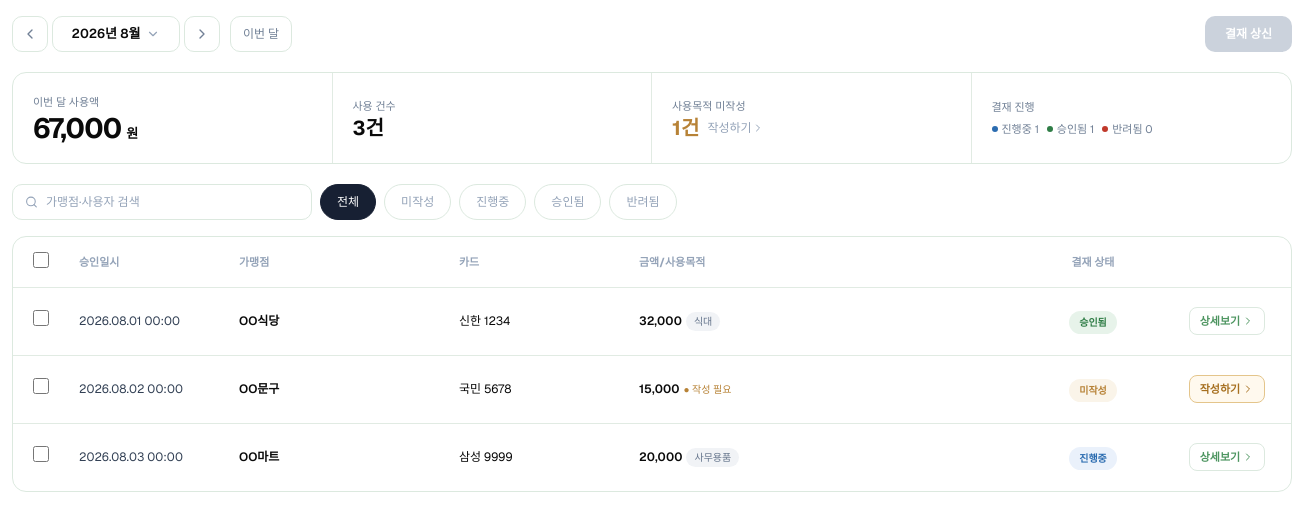
Test case: FinanceCorporateCardManagement › 내역을 하나 선택하면 결재 상신 버튼이 활성화된다
The width and height of the screenshot is (1304, 509).
What coordinates should you click on to do the following:
click the checkbox named "OO식당 선택"
I would click on:
 (41, 318)
Its box is x1=33 y1=310 x2=49 y2=326.
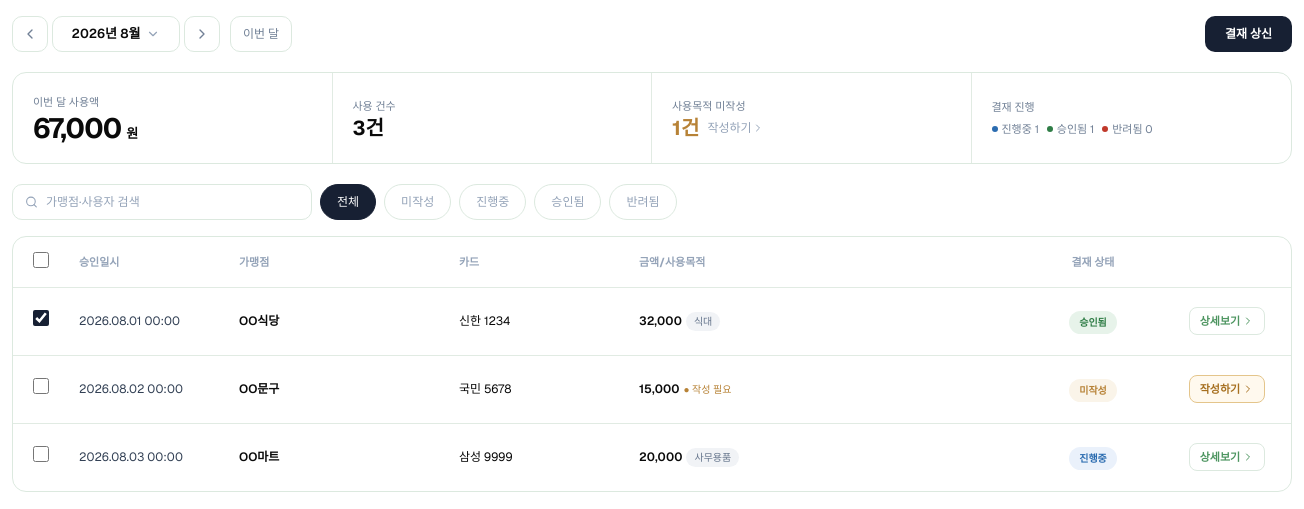
Now the button "결재 상신" is enabled, box x1=1205 y1=16 x2=1292 y2=52
